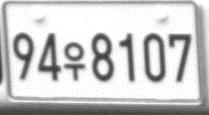0: (142, 32, 166, 81)
1: (118, 31, 136, 83)
4: (37, 32, 61, 80)
7: (168, 33, 191, 82)
8: (90, 32, 114, 81)
9: (12, 31, 33, 80)
우: (63, 41, 85, 80)
